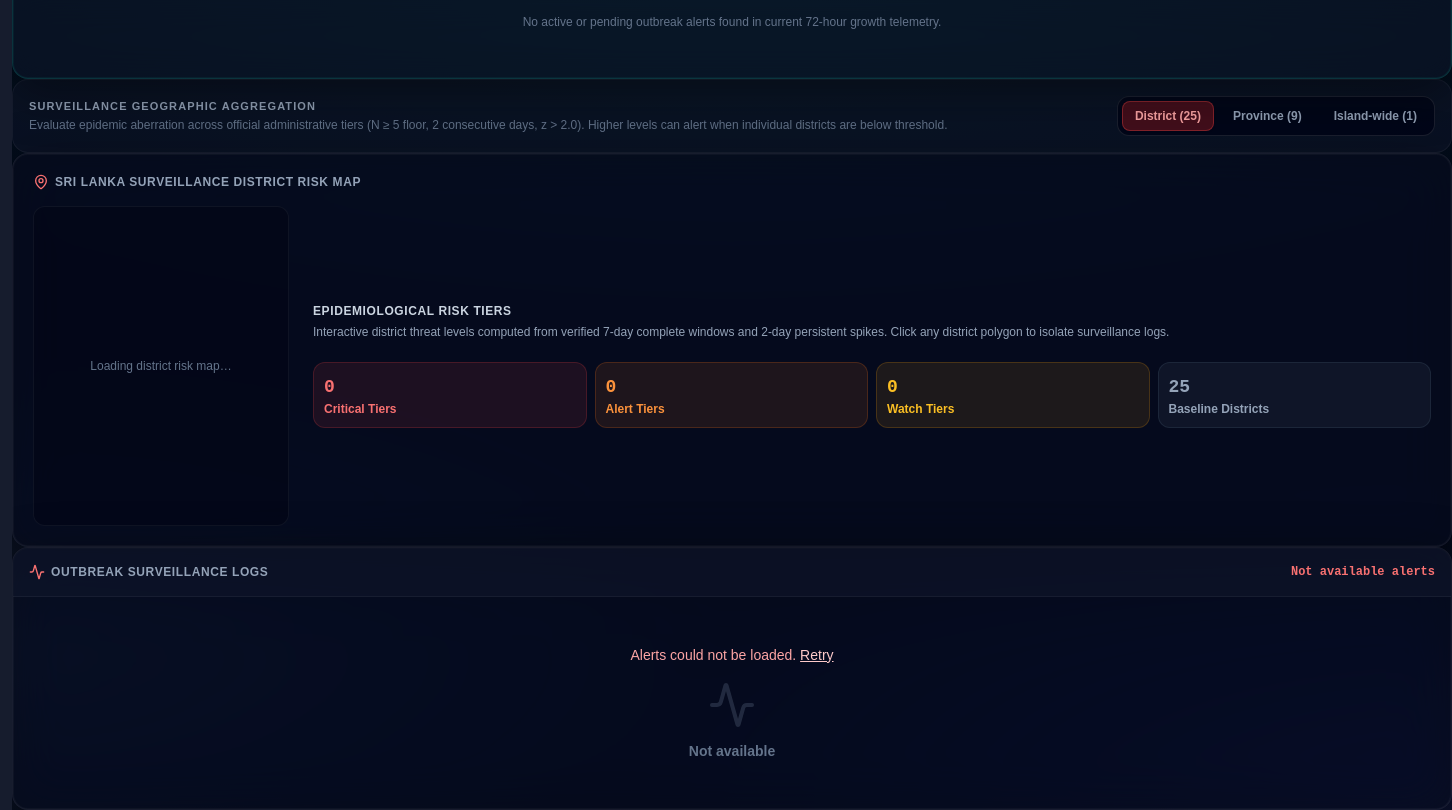
it: outbreak monitor does not wait for the ML status probe (item 5) › alert-list failure shows an error with Retry
(page scrolled)
Expected: the message with test id "alerts-error" shows "Alerts could not be loaded.", 630,646 -> 796,662
Click the button "Retry" at [817, 654], box 800,644 -> 834,664
(page scrolled)
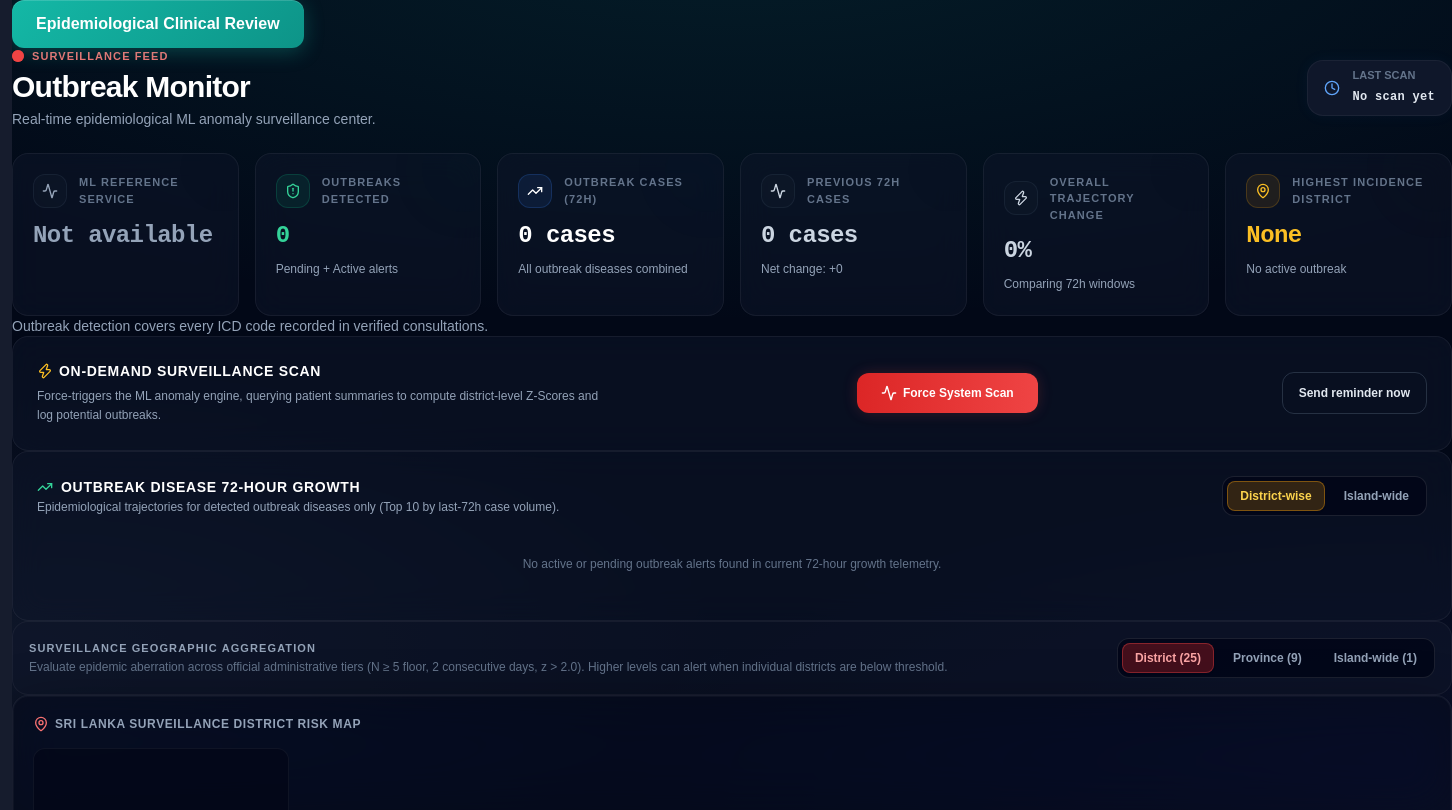
Expected: the message with test id "alerts-error" is gone
